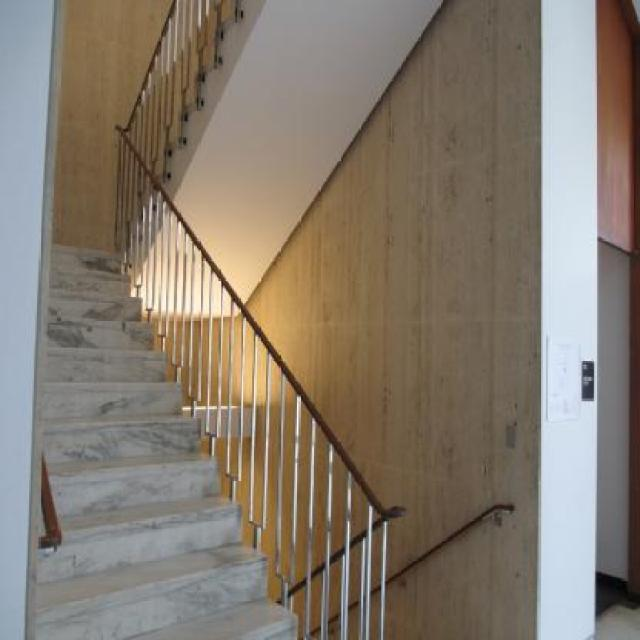stair: (21, 244, 301, 640)
